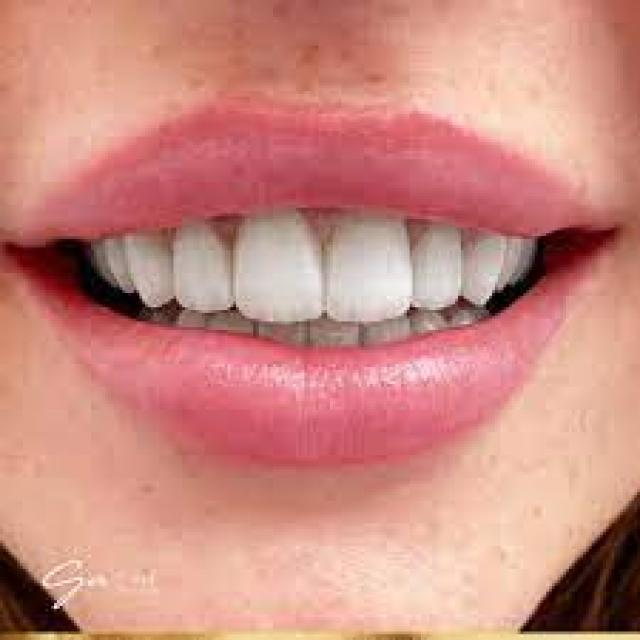tooth: (318, 216, 406, 316), (248, 216, 318, 316), (168, 230, 239, 308), (415, 228, 464, 304), (134, 230, 168, 296), (361, 316, 410, 350), (475, 228, 495, 302), (495, 219, 515, 293), (316, 316, 352, 352), (259, 321, 304, 347), (176, 304, 202, 344), (216, 307, 248, 330), (114, 239, 128, 290)
